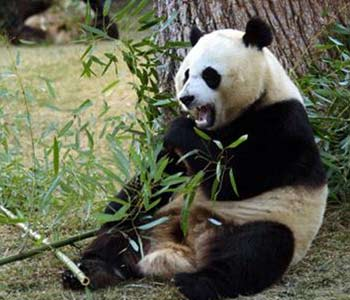panda: (94, 15, 326, 300)
